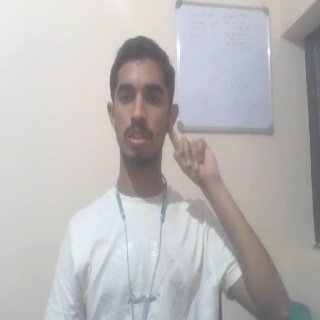Deaf: (167, 116, 224, 192)
Face: (104, 35, 180, 168)
